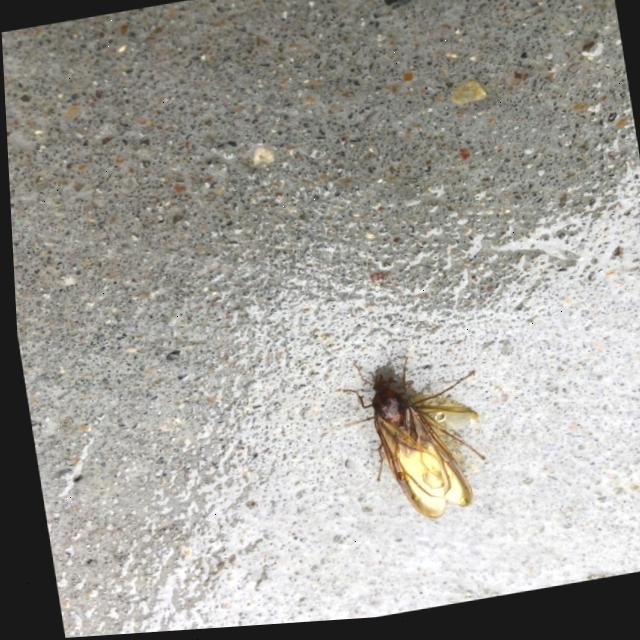Alive-Male-Alate: (326, 348, 493, 537)
